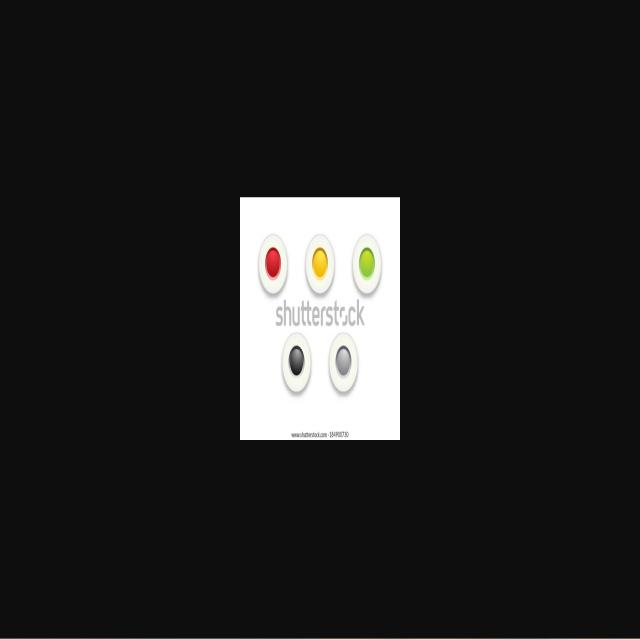radio: (281, 330, 313, 396), (352, 230, 382, 295), (258, 231, 288, 296), (329, 330, 358, 396), (306, 233, 335, 298)
